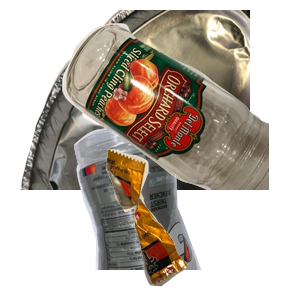glass: (60, 21, 300, 201)
metal: (18, 10, 258, 190)
plastic: (71, 120, 265, 300)
trash: (103, 147, 300, 300)
